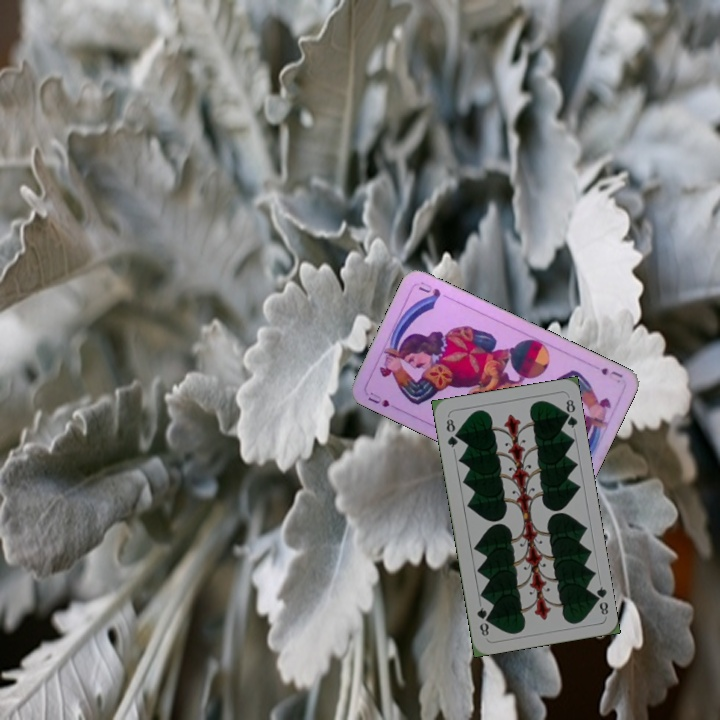G8: (589, 582, 611, 618), (442, 413, 461, 450)
SU: (364, 388, 393, 410), (597, 364, 625, 381)
